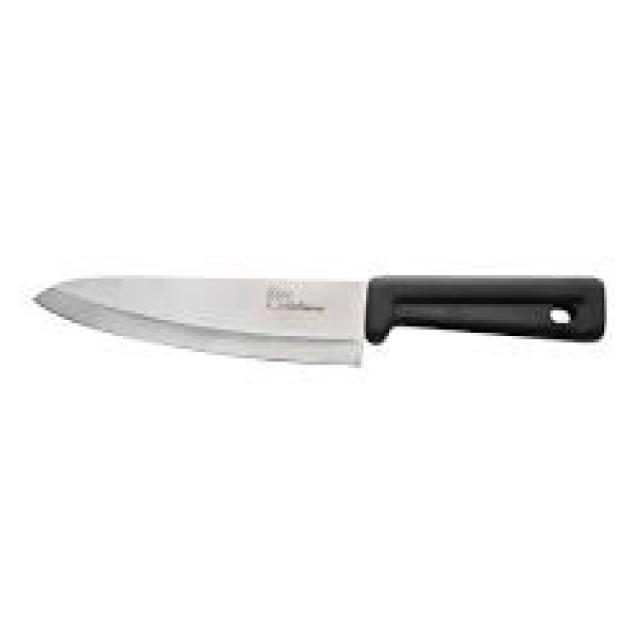alat_rumah_tangga: (24, 186, 629, 438)
